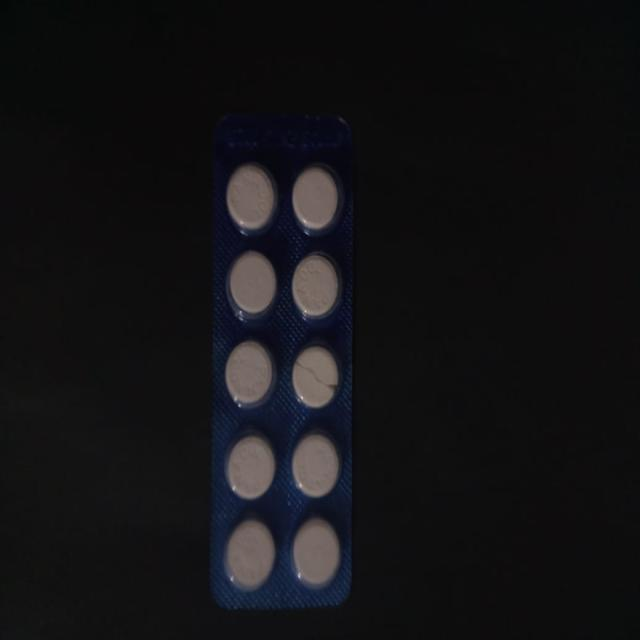defect: (289, 339, 344, 413)
